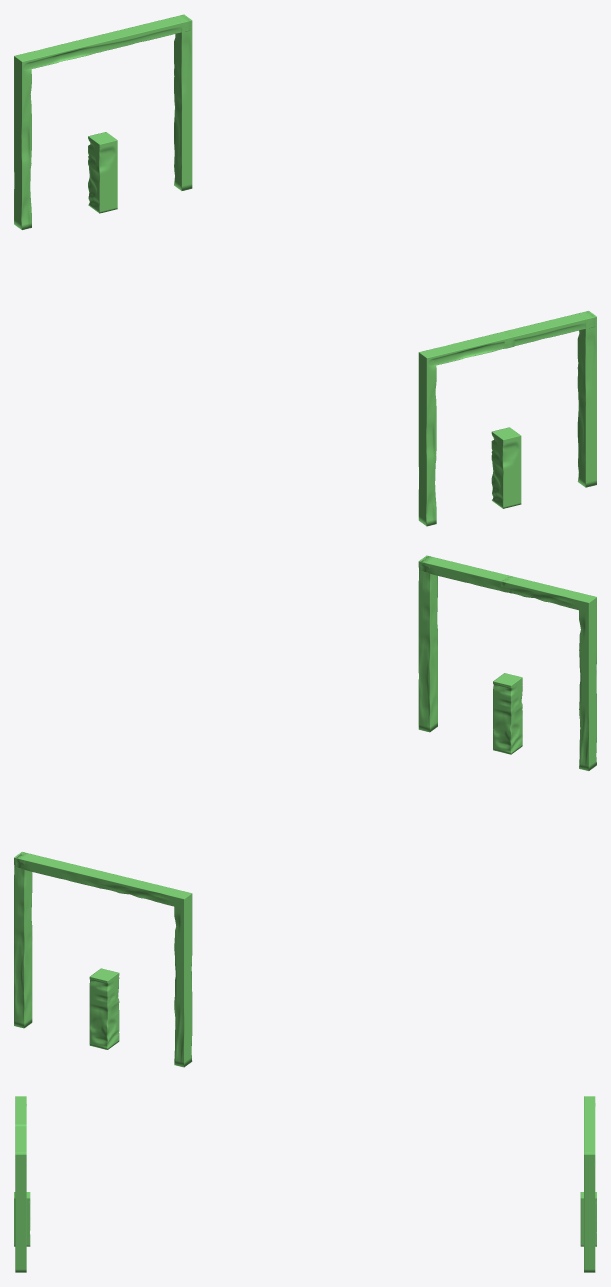
Rendered from protector_duo.glb.
3 views of the same model, one above another, from view 1: azimuth 30°, elevation 25°; view 2: azimuth 150°, elevation 25°; view 3: azimuth 270°, elevation 25° (orthographic). The views are drawn at different scales.
Parts seen in each view (by area): view 1: Протектор; view 2: Протектор; view 3: Протектор.
Boxes of the visible parts, bbox=[...] form: Протектор: bbox=[14, 14, 596, 526]; Протектор: bbox=[14, 555, 596, 1067]; Протектор: bbox=[14, 1096, 596, 1272].
Size of the model in its own units: 2.44 by 2.3 by 10.29.
